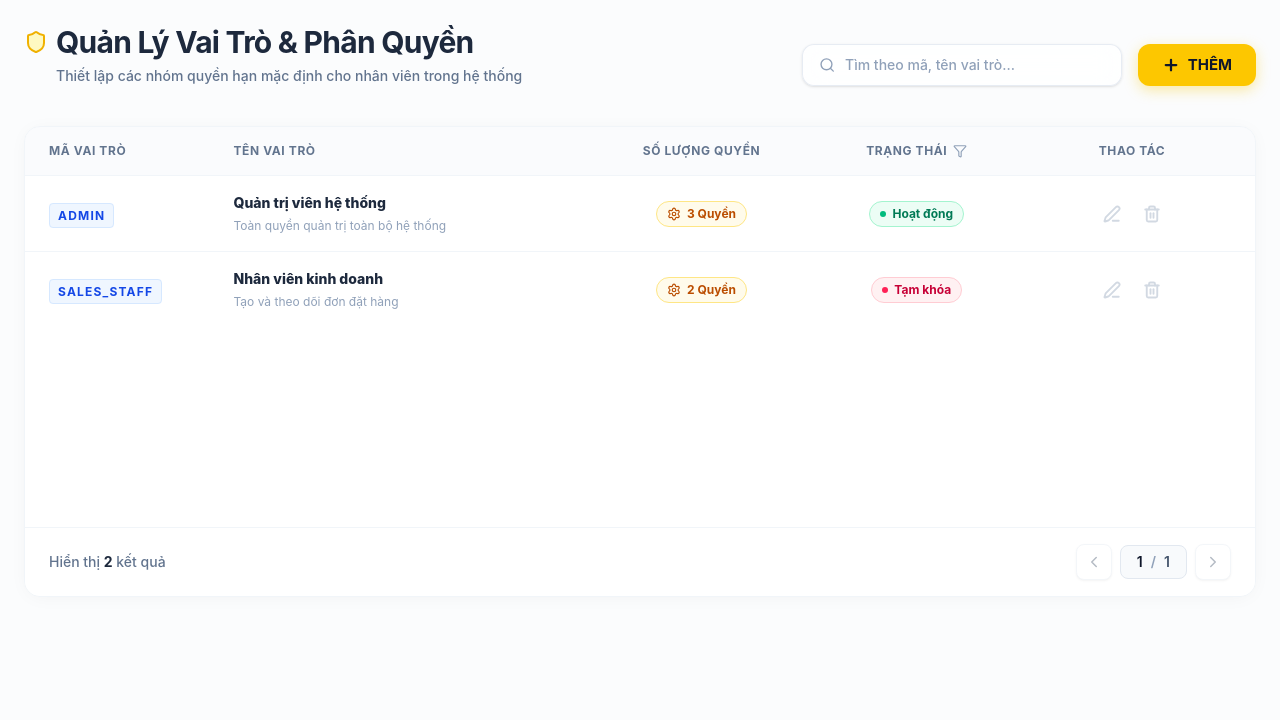
Test case: Module 01 - RoleList Component › TC04 - Mở modal xác nhận khi click nút Xóa vai trò
Expected: the text "Quản trị viên hệ thống" is shown, [234,194,386,211]
What coordinates should you click on to do the following:
click the button titled "Xóa" in the row of "ADMIN"
I would click on:
 (1152, 214)
Its box is [1135,196,1169,230].
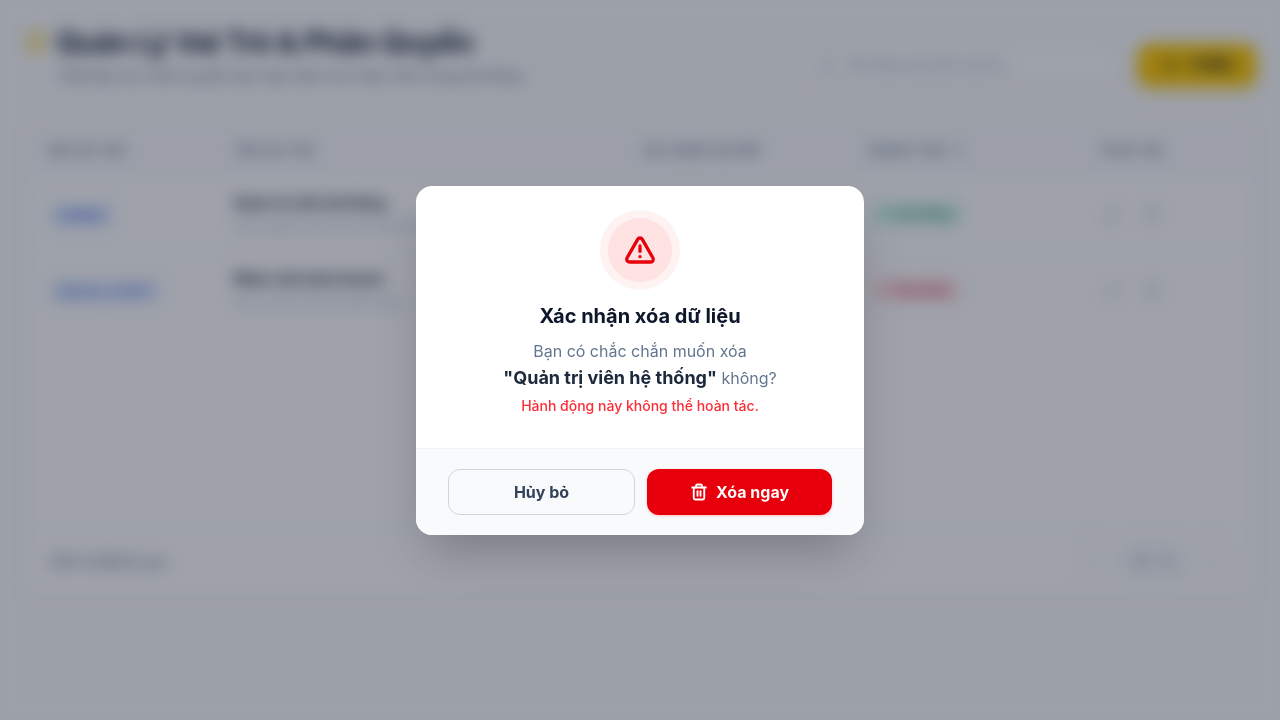
Expected: the text "Bạn có chắc chắn muốn xóa" is shown, [533,340,747,360]
